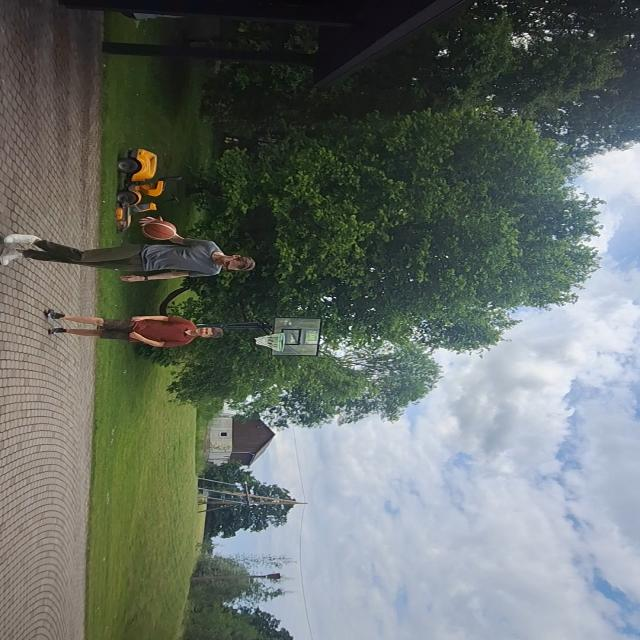ball: (142, 218, 178, 242)
hoop: (253, 330, 287, 354)
player: (5, 219, 260, 283), (42, 306, 226, 348)
